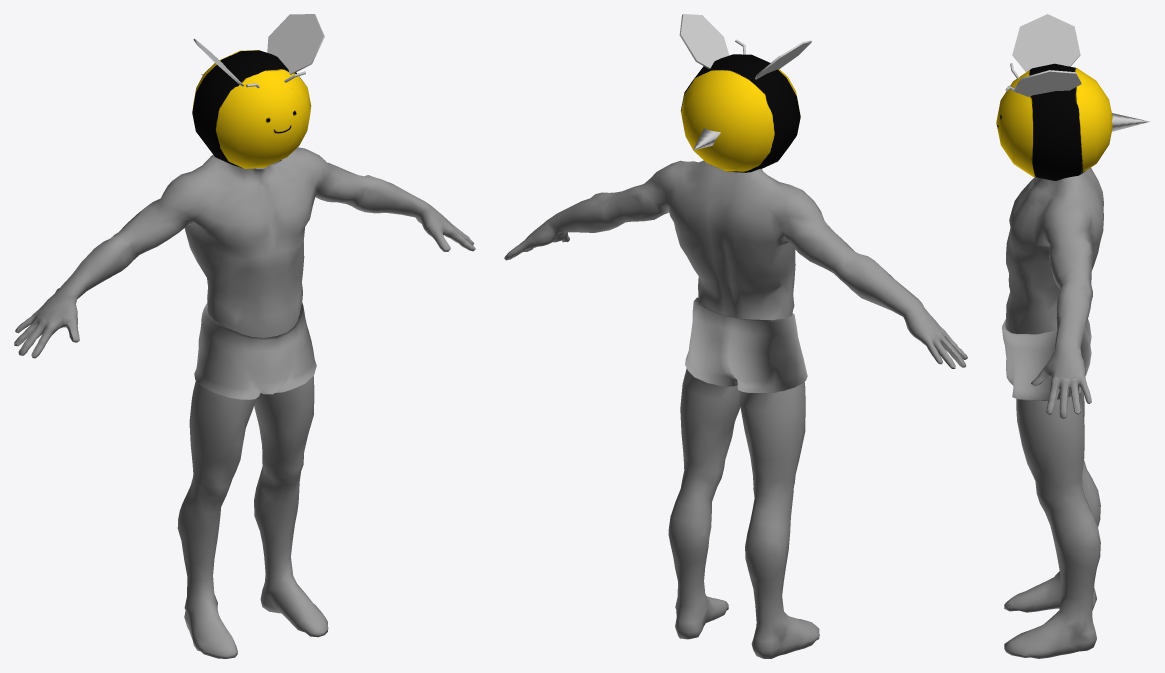
Rendered from BEEEEEEAMAN.FBX.
3 renders of one model, left to right at view 1: azimuth 30°, elevation 25°; view 2: azimuth 150°, elevation 25°; view 3: azimuth 270°, elevation 25°, orthographic. The views are drawn at different scales.
Parts seen in each view (by area): view 1: new_body, Sphere001, new_pant, Cylinder001; view 2: new_body, Sphere001, new_pant, Cylinder001; view 3: new_body, Sphere001, Cylinder001, new_pant, Cone001.
Part boxes in pixels (box(x1,y1,x2,y2)): new_body: box(14, 147, 475, 658); Sphere001: box(192, 50, 311, 168); new_pant: box(194, 303, 316, 399); Cylinder001: box(193, 14, 324, 86); new_body: box(504, 160, 967, 658); Sphere001: box(681, 54, 800, 172); new_pant: box(685, 297, 807, 393); Cylinder001: box(679, 14, 811, 79); new_body: box(1004, 168, 1103, 658); Sphere001: box(996, 63, 1112, 180); Cylinder001: box(1012, 14, 1081, 96); new_pant: box(1002, 319, 1091, 400); Cone001: box(1111, 113, 1149, 131).
Size of the model in its own units: 160 by 202 by 48.08.
